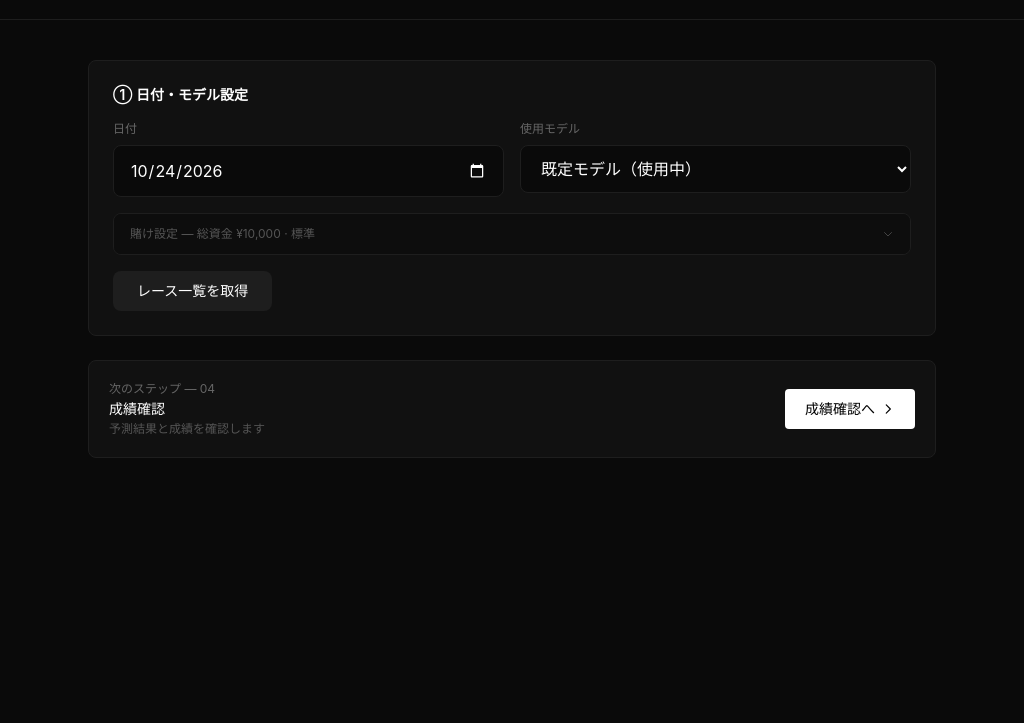
Test case: parallel batch prediction UI › uses the server RAM-limited capacity instead of assuming four workers
Click the button "レース一覧を取得".
click(193, 291)  # box [113,271,272,311]
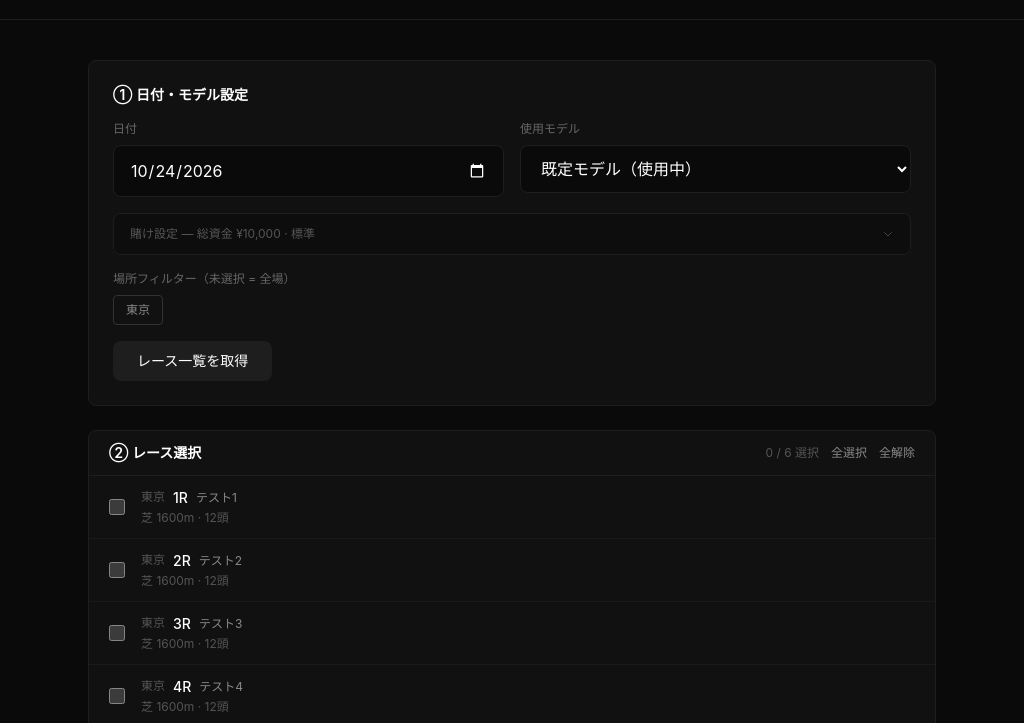
Click the button "全選択".
click(849, 453)  # box [831,445,867,461]
(page scrolled)
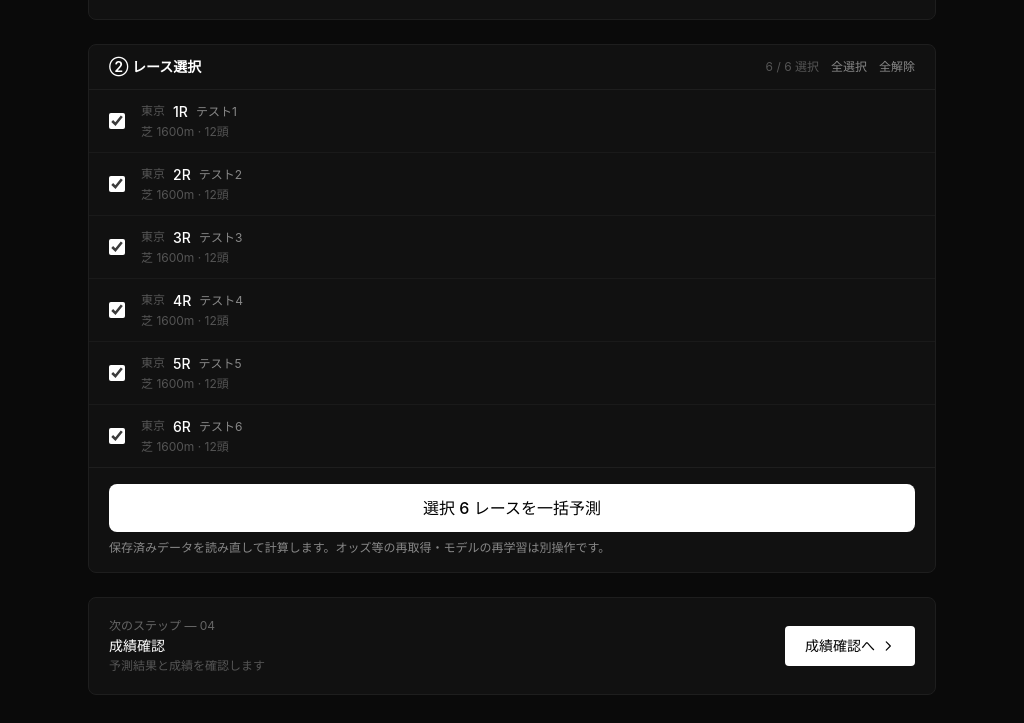
Click the button "選択 6 レースを一括予測".
click(512, 508)  # box [109,484,915,532]
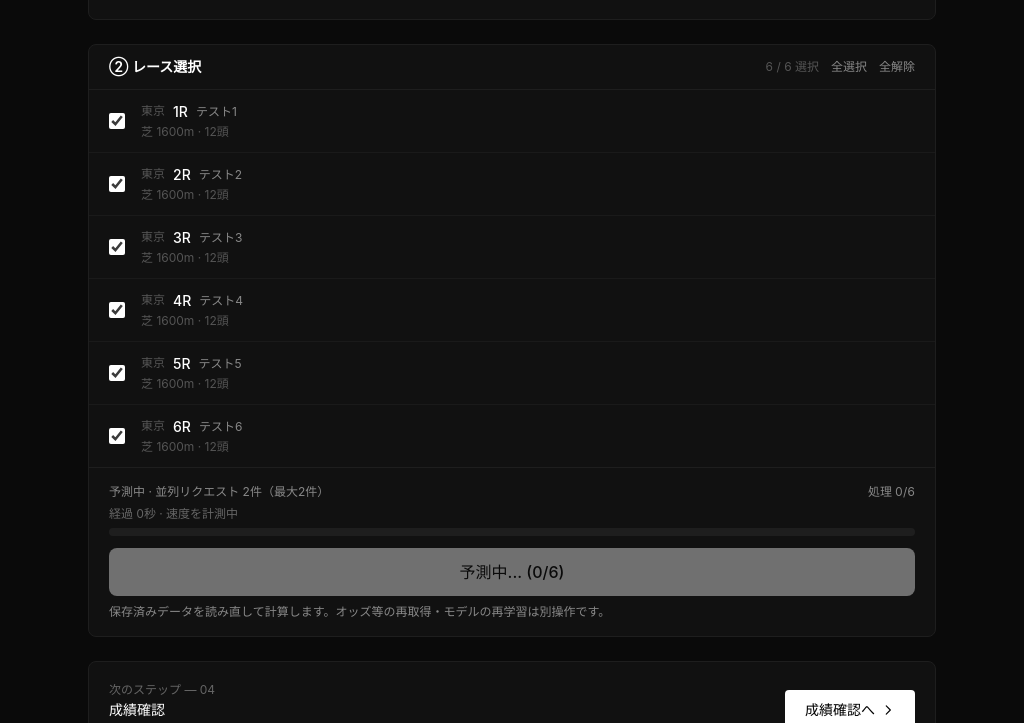
Expected: the message with test id "prediction-live-progress" shows "最大2件", [109,484,329,499]
